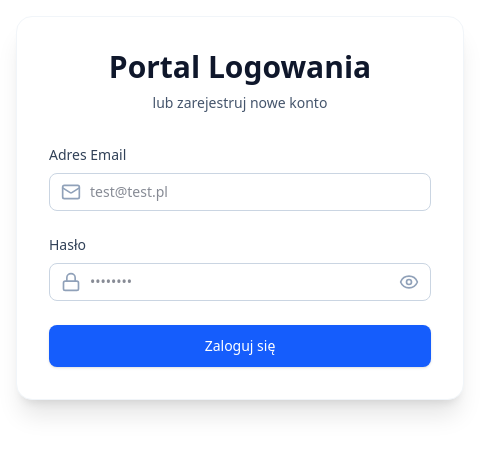
Scenario: LoginPage Unit Tests › powinien wyświetlić błąd walidacji Zod dla błędnego emaila
Type "zly-email" into the field with placeholder "test@test.pl".
click(240, 192); type("zly-email")  # box left=49, top=173, right=431, bottom=211
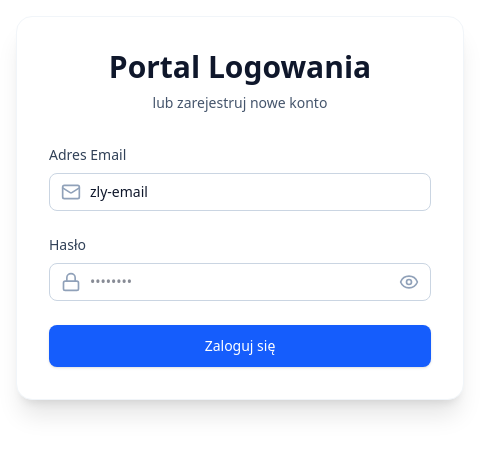
Type "Test1234!" into the password field with placeholder "••••••••".
click(240, 282); type("Test1234!")  # box left=49, top=263, right=431, bottom=301
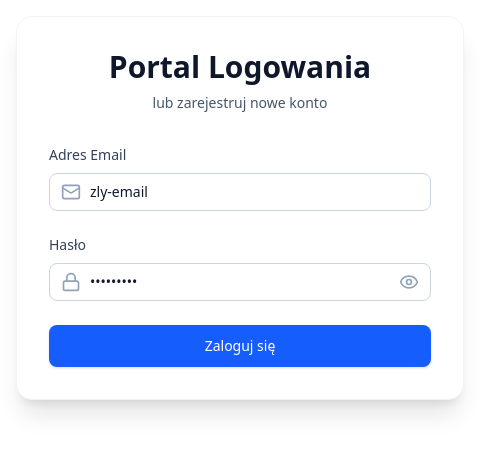
Submit the form "Zaloguj się", box left=49, top=145, right=431, bottom=367
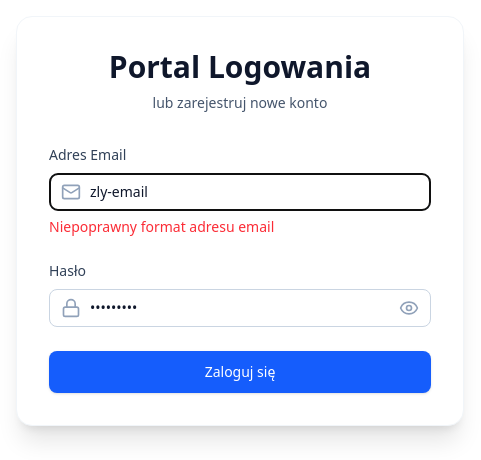
Expected: the text "Niepoprawny format adresu email" is shown, left=49, top=217, right=274, bottom=236
